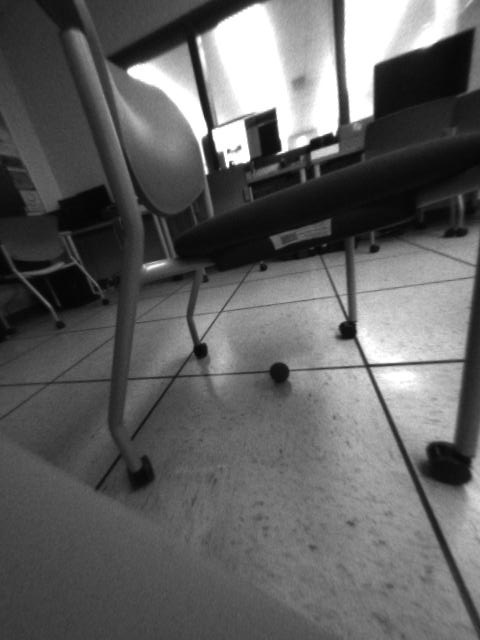dogtoy: (264, 354, 300, 393)
